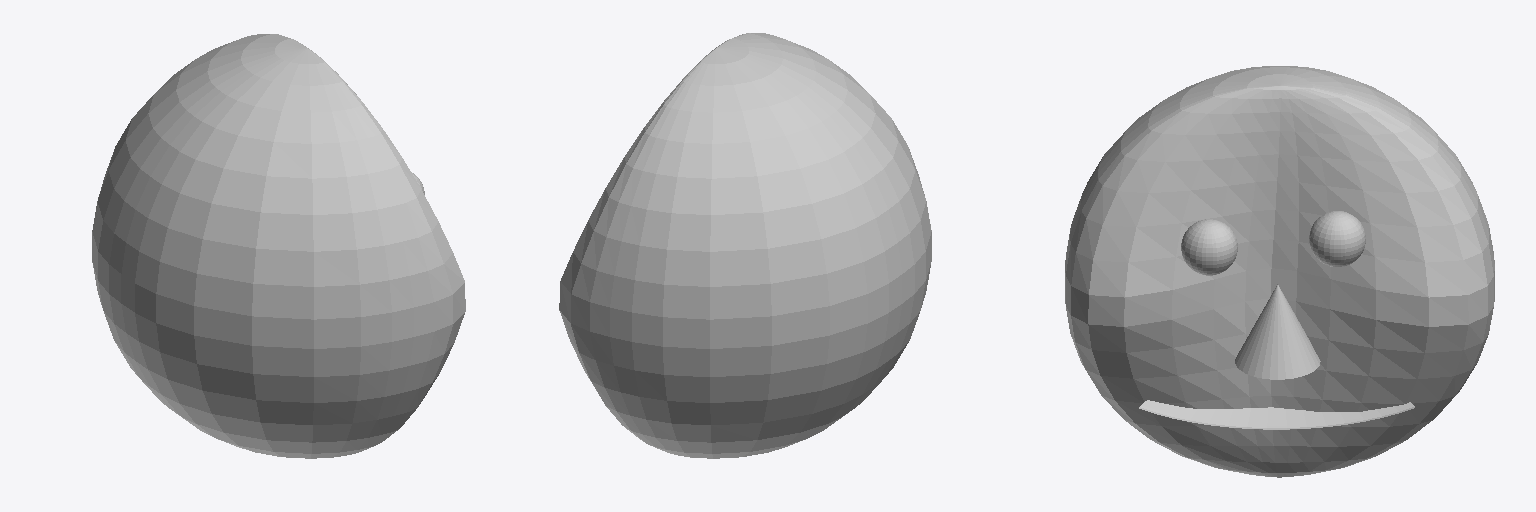
3 views of the same model, side by side, from view 1: azimuth 30°, elevation 25°; view 2: azimuth 150°, elevation 25°; view 3: azimuth 270°, elevation 25° (orthographic).
Parts seen in each view (by area): view 1: SurfCircle; view 2: SurfCircle; view 3: SurfCircle, Cone, SurfCurve, SurfSphere.001, SurfSphere.
Part boxes in pixels (x1,y1,x2,y2): SurfCircle: (92,34,465,458); SurfCircle: (559,33,931,458); SurfCircle: (1065,66,1494,477); Cone: (1235,284,1320,379); SurfCurve: (1139,400,1414,429); SurfSphere.001: (1309,211,1365,266); SurfSphere: (1181,219,1237,275).
Size of the model in its own units: 144 by 200 by 199.